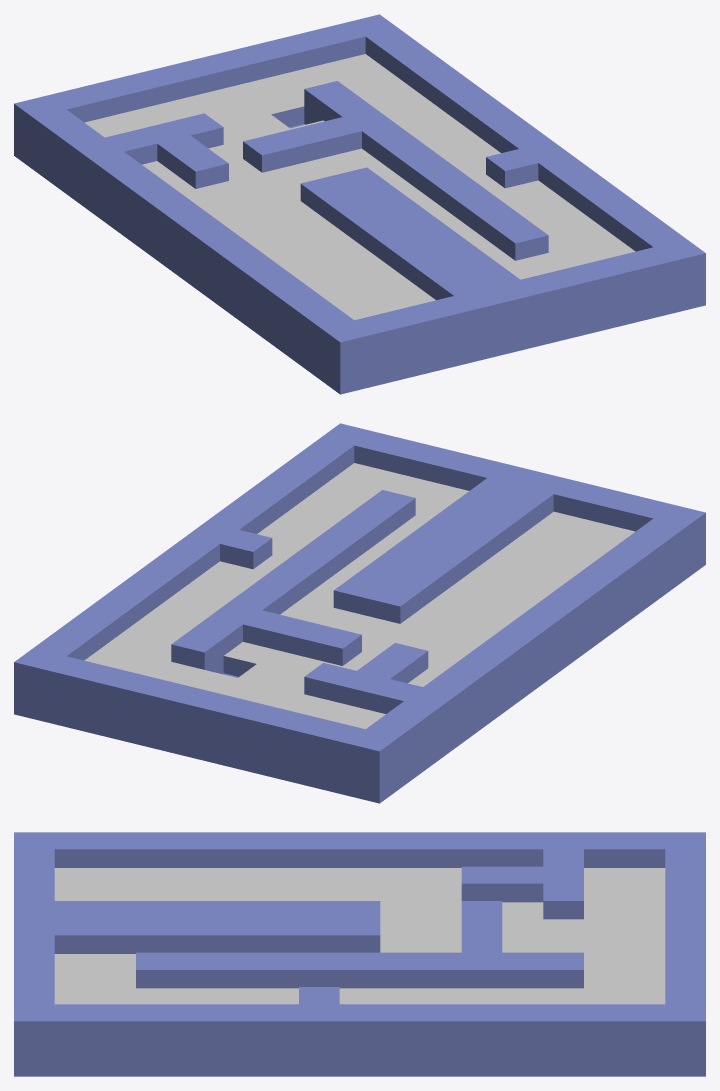
File: 090_platform.fbx
3 views of the same model, one above another, from view 1: azimuth 30°, elevation 25°; view 2: azimuth 150°, elevation 25°; view 3: azimuth 270°, elevation 25° (orthographic). The views are drawn at different scales.
Visible parts, largest first — view 1: Grid; view 2: Grid; view 3: Grid.
Part boxes in pixels (bbox=[...]): Grid: bbox=[14, 14, 705, 394]; Grid: bbox=[14, 423, 705, 803]; Grid: bbox=[14, 832, 705, 1076].
Bounding box in the file's own units: 1100 × 150 × 1700.
